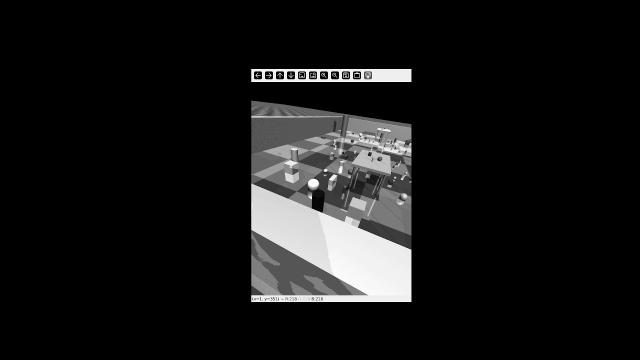cilindro: (311, 190, 327, 212), (339, 114, 352, 136), (290, 148, 299, 160), (341, 183, 349, 192), (338, 160, 344, 168), (393, 137, 398, 143), (371, 156, 376, 161), (403, 149, 408, 154), (319, 136, 327, 139), (383, 143, 387, 149), (395, 150, 402, 153), (368, 138, 372, 143), (409, 177, 413, 181), (398, 160, 402, 164), (390, 140, 394, 144), (333, 139, 337, 142), (334, 144, 338, 147), (354, 151, 357, 154), (395, 162, 398, 165), (383, 128, 385, 130)
cuadrado: (346, 196, 367, 222), (283, 159, 302, 175), (404, 139, 411, 146), (367, 170, 374, 175), (368, 151, 373, 157), (343, 154, 348, 159), (330, 152, 335, 157), (350, 139, 354, 144), (401, 174, 405, 178), (386, 128, 389, 131), (365, 136, 367, 140), (389, 144, 392, 146), (353, 132, 354, 134)
esfera: (307, 177, 320, 190), (399, 192, 408, 200), (347, 168, 354, 175), (323, 168, 329, 173), (377, 157, 382, 161), (394, 176, 398, 181), (404, 171, 408, 175), (358, 133, 363, 136), (395, 145, 398, 149), (380, 128, 384, 130), (373, 140, 375, 143), (391, 147, 393, 150), (361, 137, 363, 139), (393, 165, 395, 167)
rectangulo: (327, 174, 337, 183), (388, 178, 394, 185), (386, 139, 390, 143), (381, 143, 385, 146)
